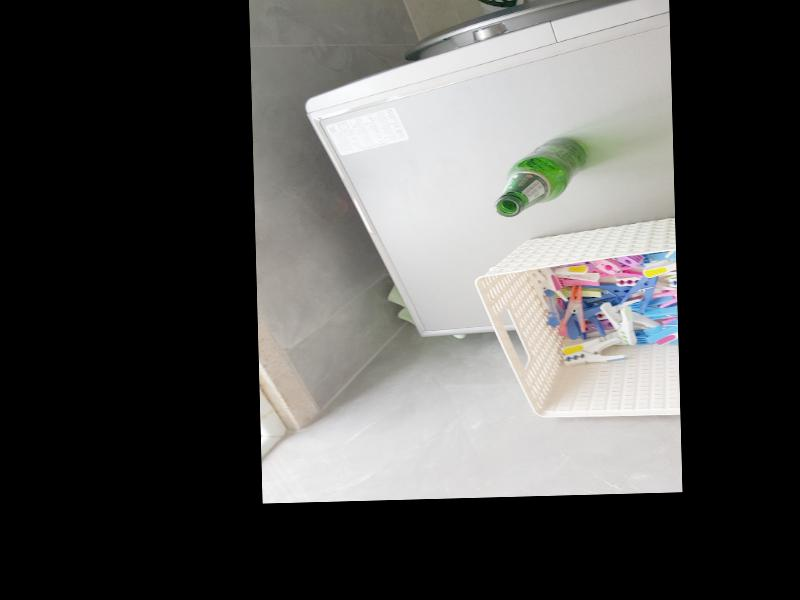Beer: (492, 136, 587, 216)
